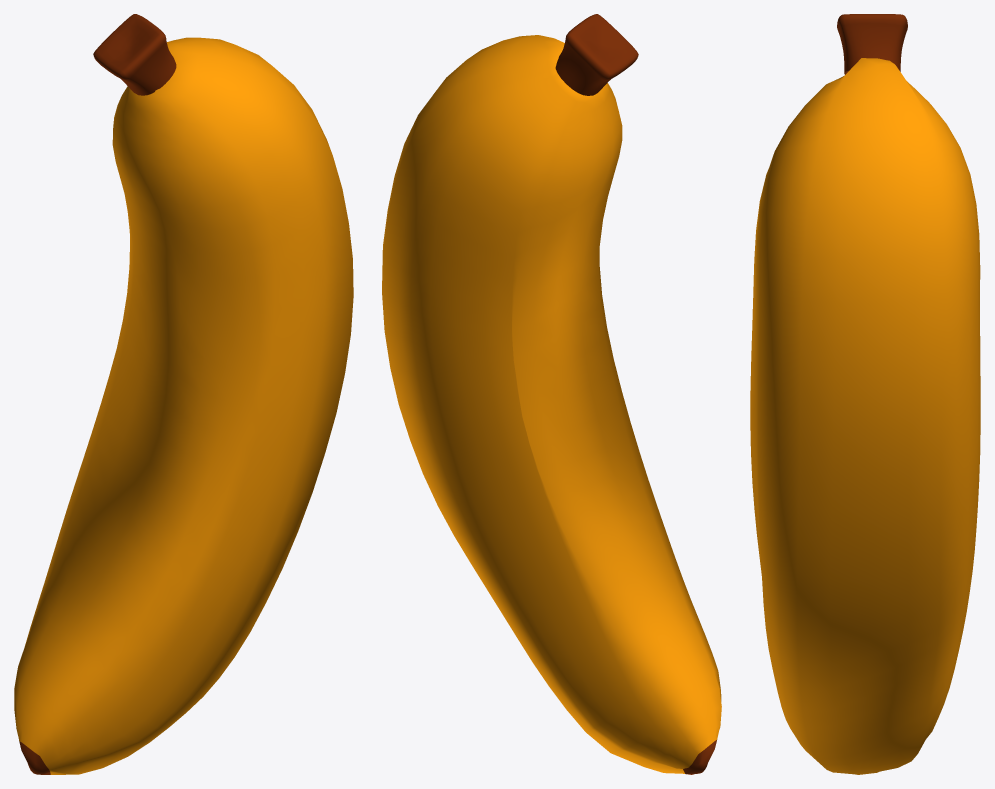
The model's file is banana3.fbx.
3 views of the same model, side by side, from view 1: azimuth 30°, elevation 25°; view 2: azimuth 150°, elevation 25°; view 3: azimuth 270°, elevation 25° (orthographic). The views are drawn at different scales.
Visible parts, largest first — view 1: Banana.002_s_009; view 2: Banana.002_s_009; view 3: Banana.002_s_009.
Boxes of the visible parts, x1,y1,x2,y2 form: Banana.002_s_009: (14, 14, 353, 774); Banana.002_s_009: (382, 14, 721, 774); Banana.002_s_009: (750, 14, 980, 774).
Size of the model in its own units: 53.98 by 118 by 31.08.
